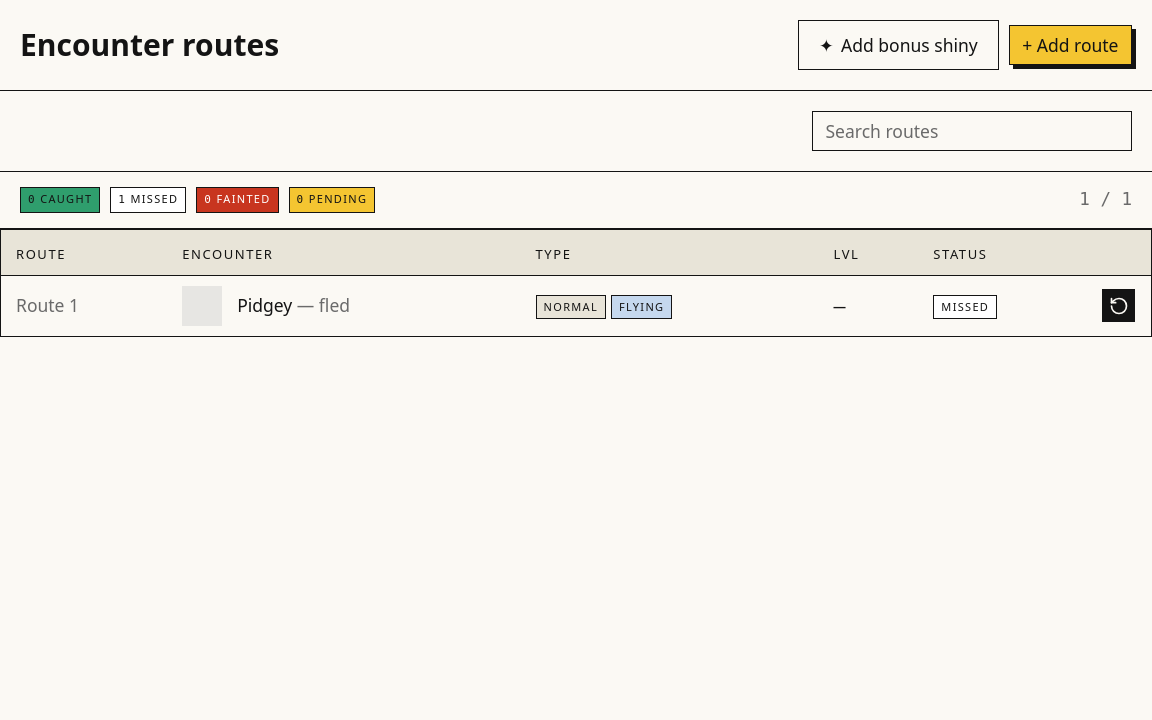
Test: Bonus shiny dialog › asks for a route and saves nothing without one
The width and height of the screenshot is (1152, 720).
Click the button "✦ Add bonus shiny" at (898, 45), box [798,20,999,70]
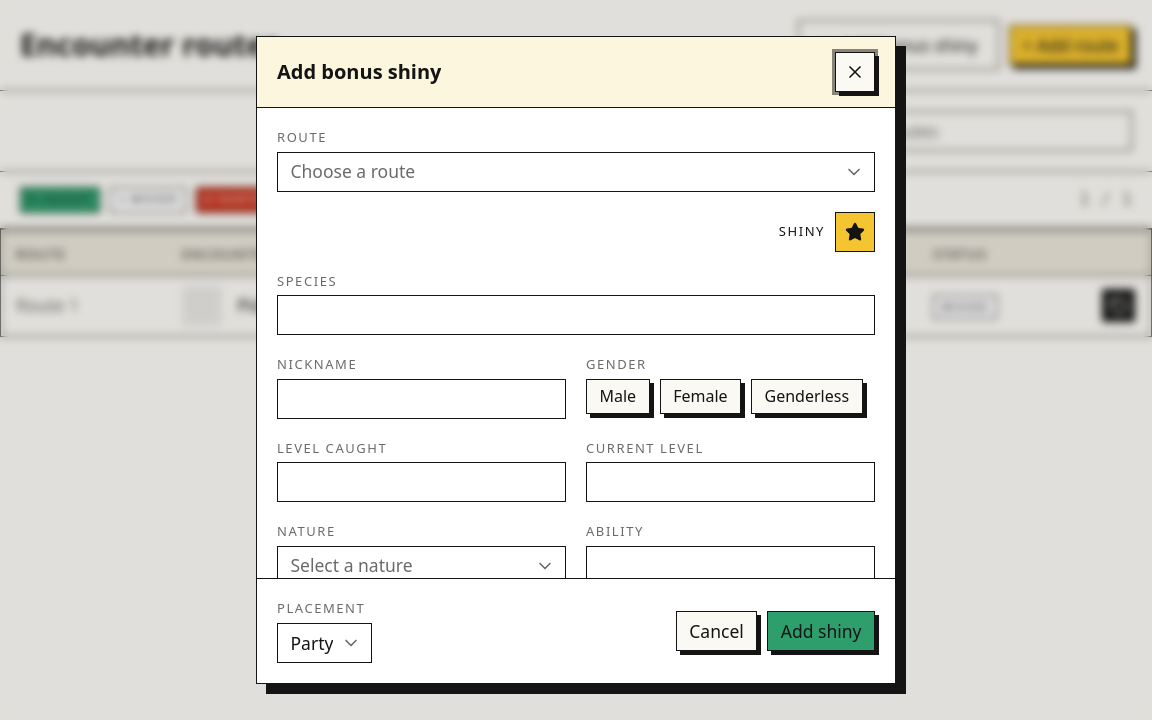
Type "Chikorita" into the dropdown labelled "Species" at (576, 315), box [277,295,875,335]
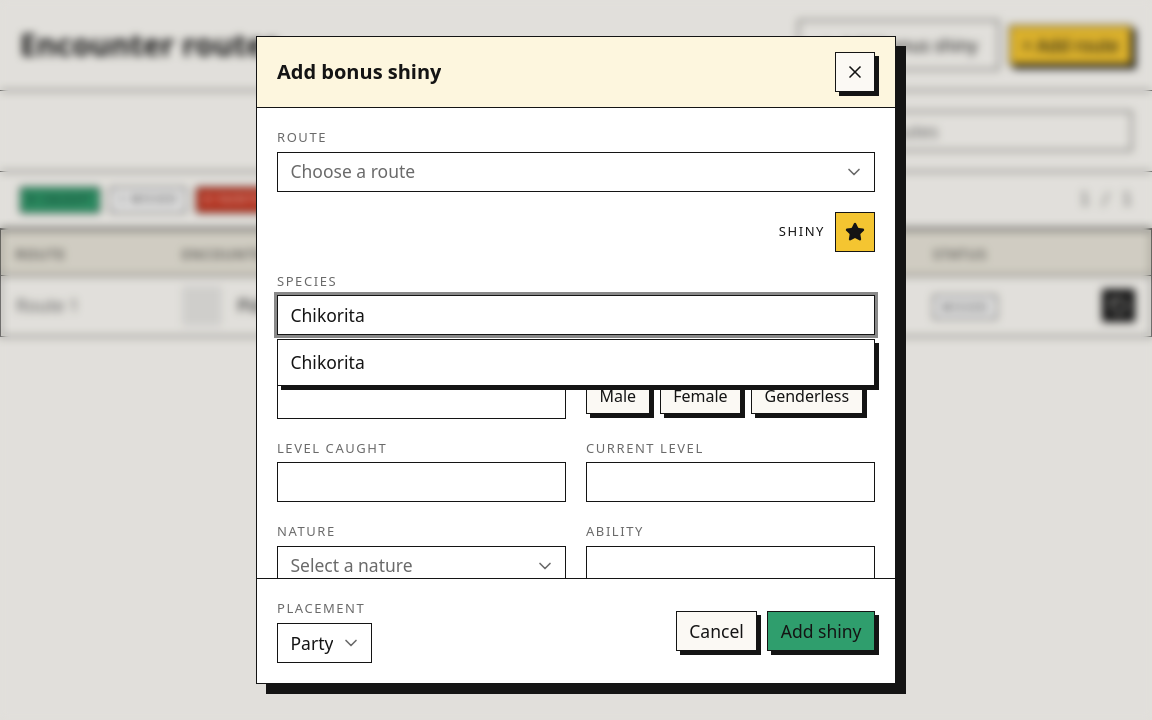
Type "6" into the field labelled "Level caught" at (422, 482), box [277,462,566,502]
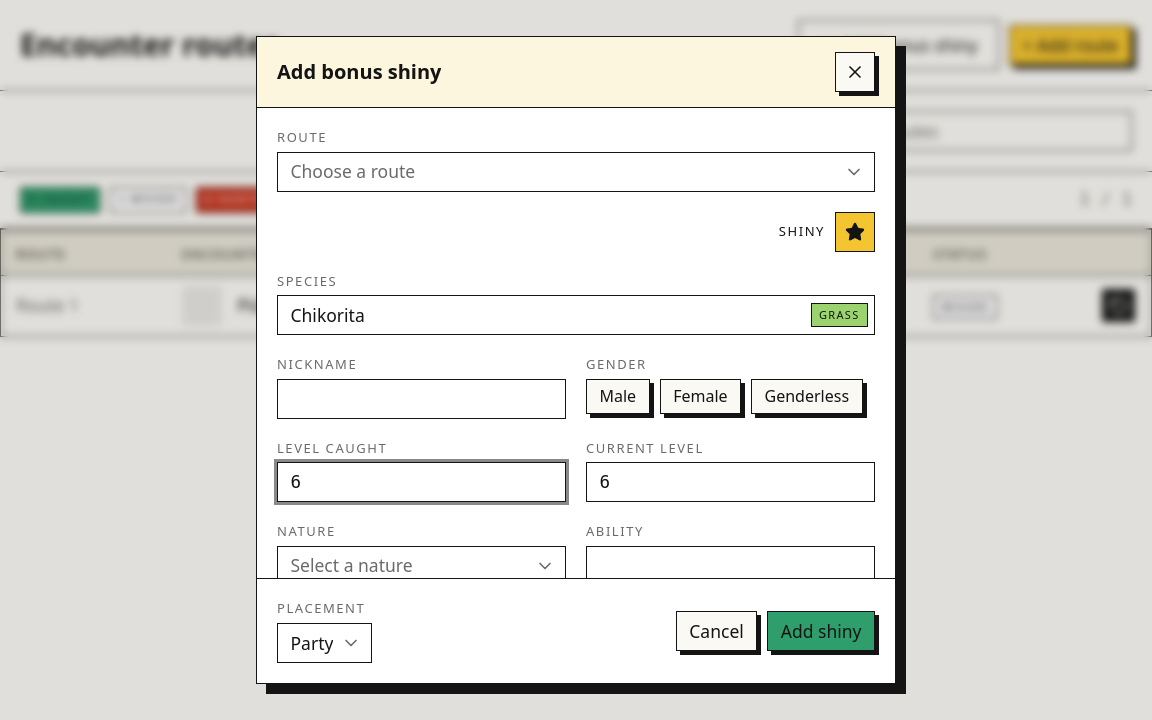
Click the button "Add shiny" at (821, 631), box [767,611,875,651]
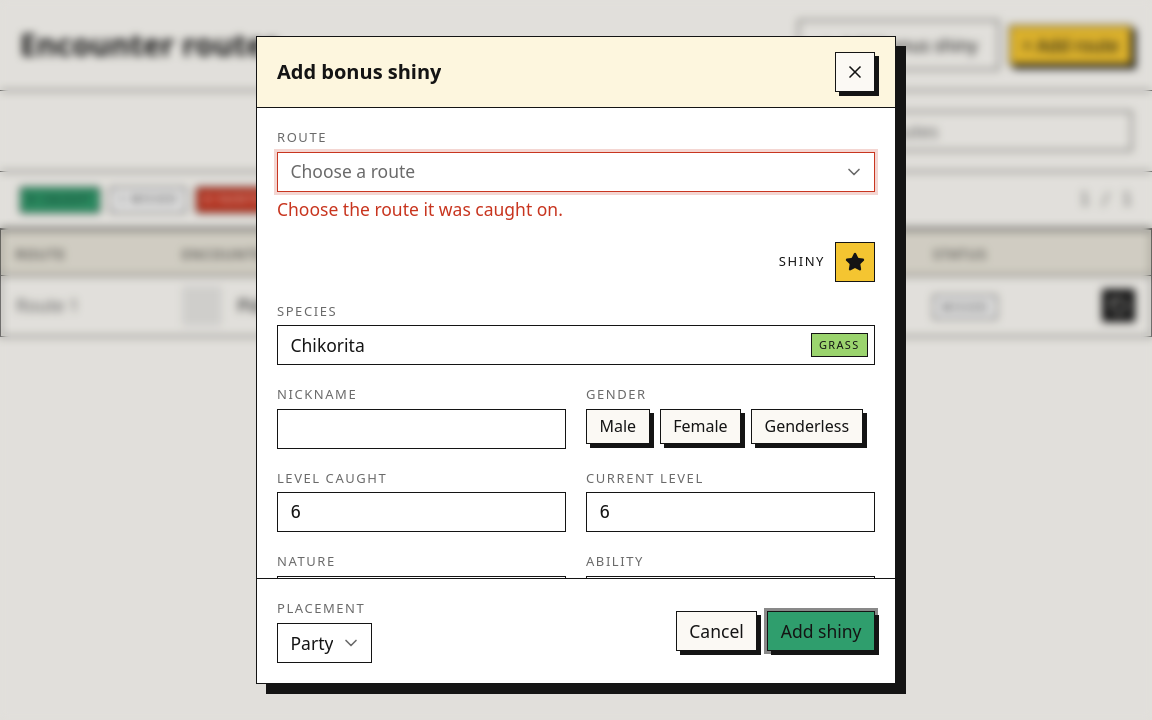
Now the text "Choose the route it was caught on." is shown, box [277,197,563,221]
